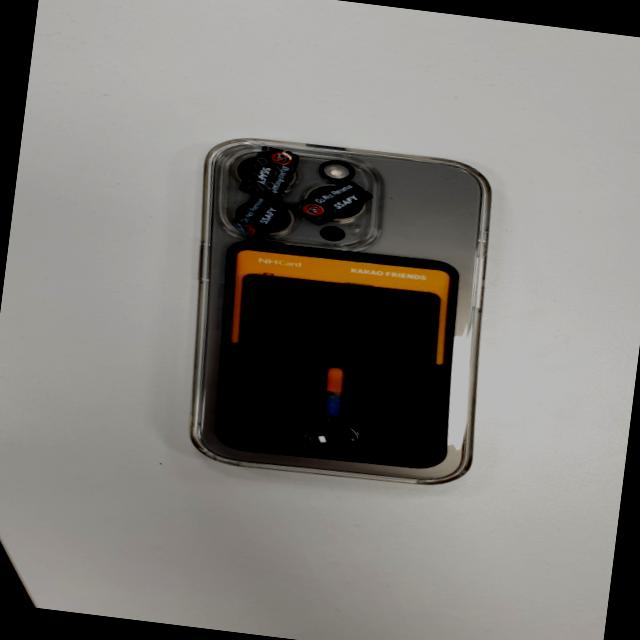phone: (166, 130, 504, 493)
removed_sticker: (291, 175, 376, 230), (242, 146, 300, 198)
sticker: (229, 192, 287, 236)
